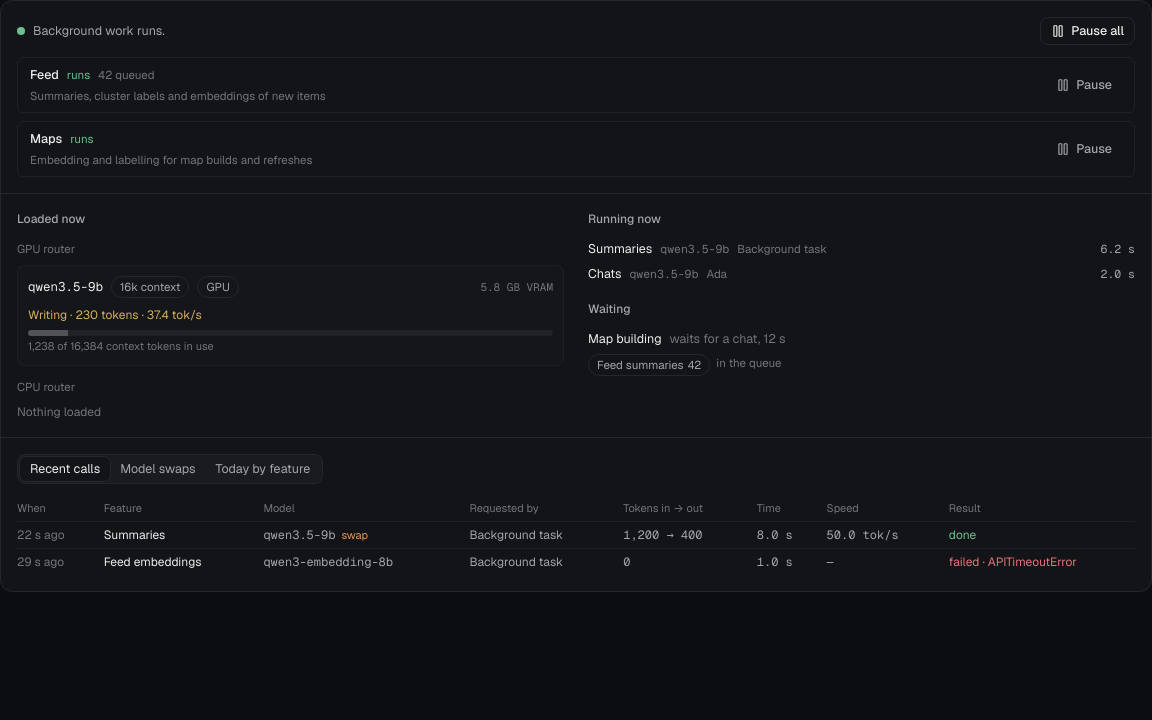
Test: model activity › pauses one group of background work, or all of it, and resumes it
Check: the list item that starts with "Feed" reads "Feed runs 42 queued Summaries, cluster labels and embeddings of new items Pause", box [17, 57, 1135, 113]
Click the button with aria-label "Pause Maps" at (1084, 149), box [1046, 135, 1122, 163]
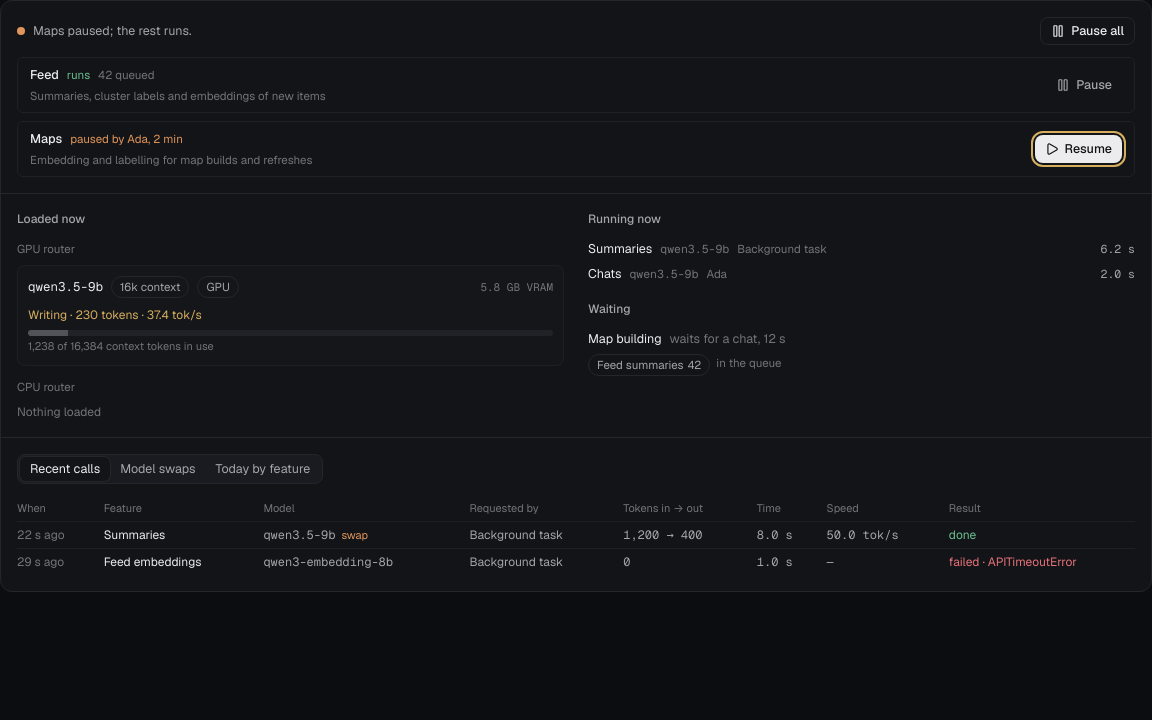
Check: the text "Maps paused; the rest runs." is shown, box [33, 22, 192, 40]
Click the button "Pause all" at (1088, 31), box [1040, 17, 1135, 45]
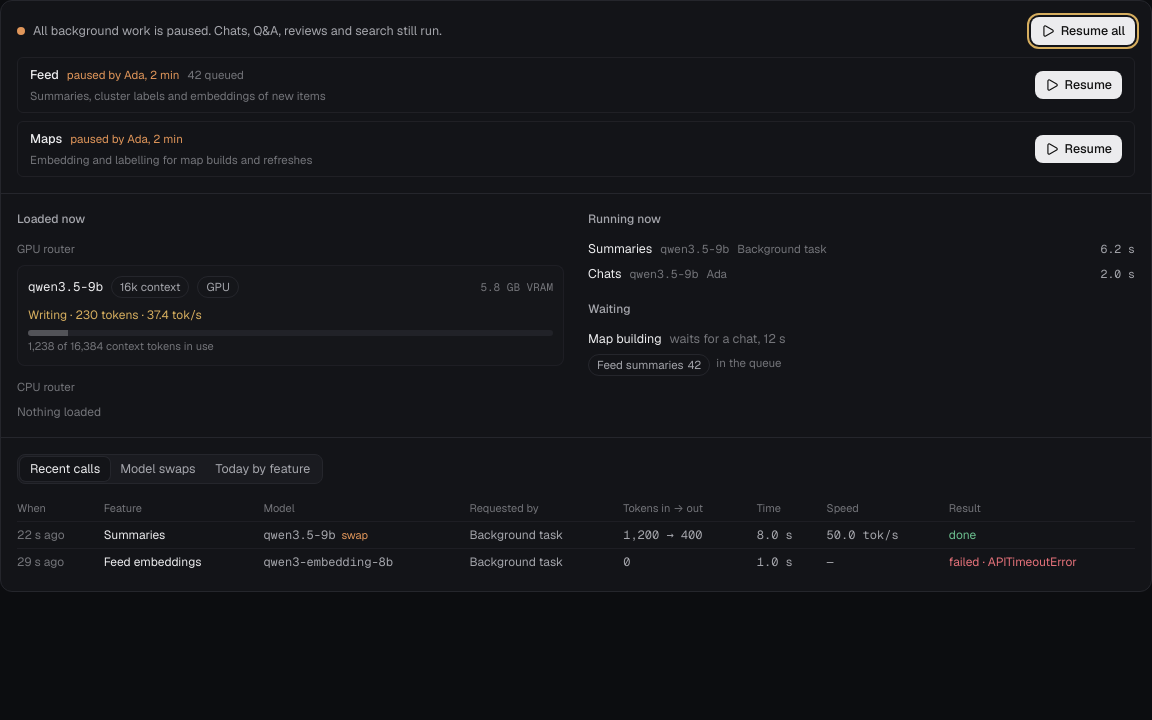
Check: the text "All background work is paused" is shown, box [33, 22, 442, 39]
Click the button "Resume all" at (1083, 31), box [1031, 17, 1135, 45]
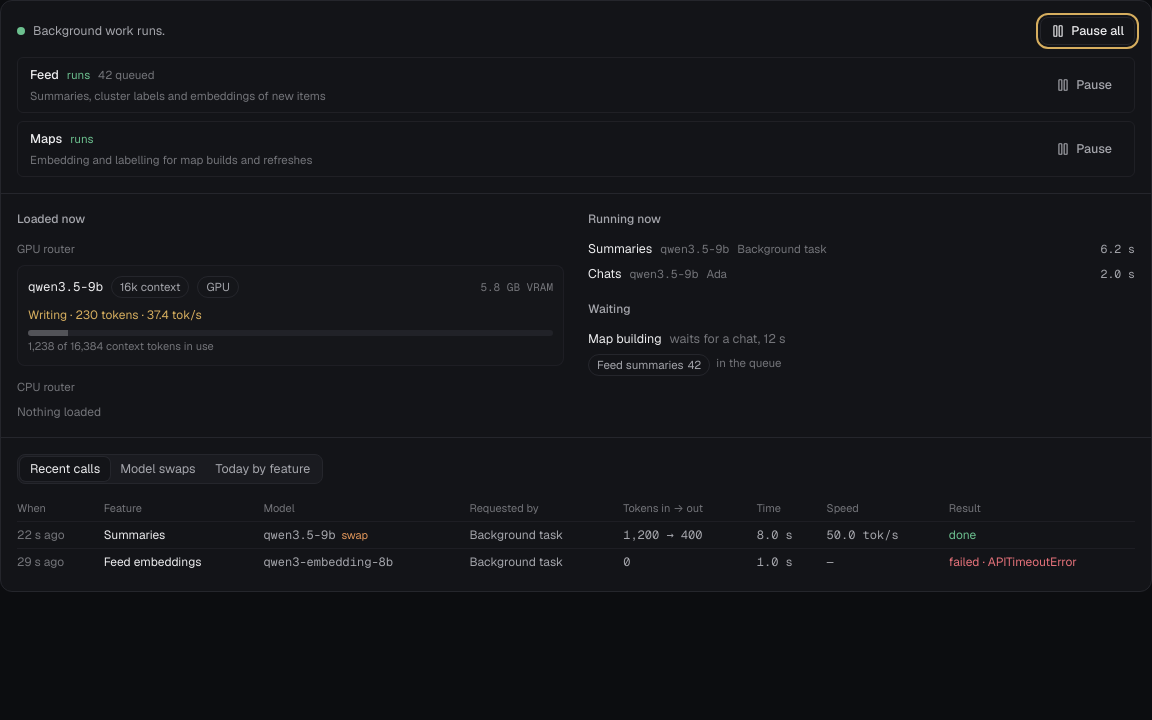
Check: the text "Background work runs." is shown, box [33, 22, 165, 40]
